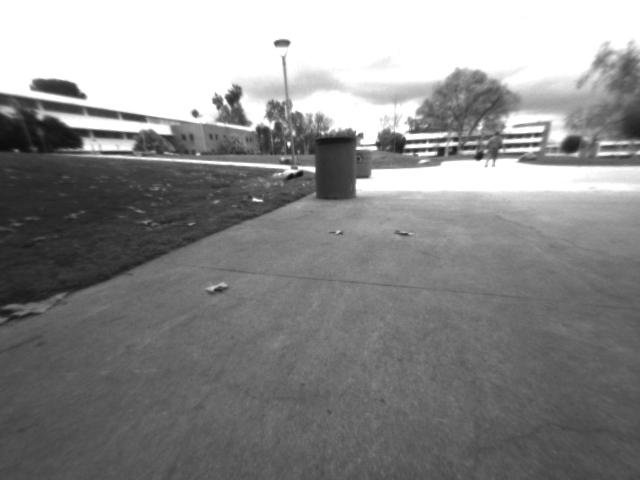trashcan: (314, 135, 356, 201)
